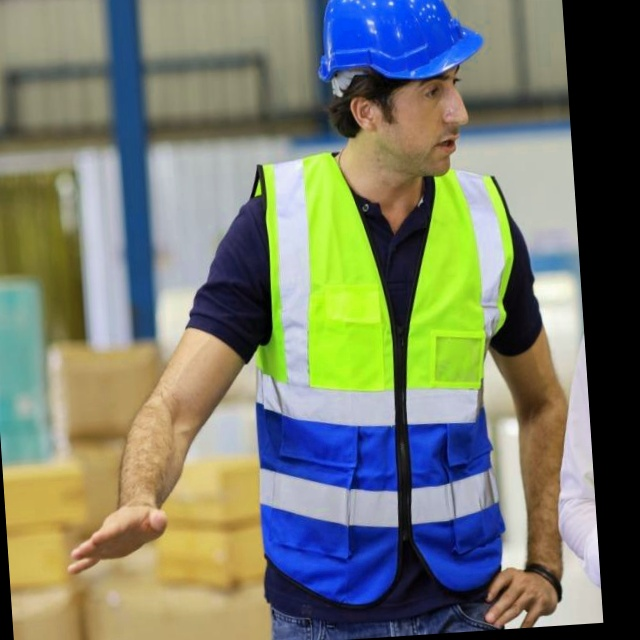Con_Casco: (313, 0, 492, 183)
Con_Chaleco: (254, 141, 531, 601)
